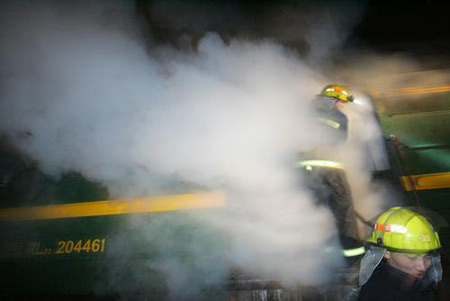smoke: (41, 28, 300, 280)
